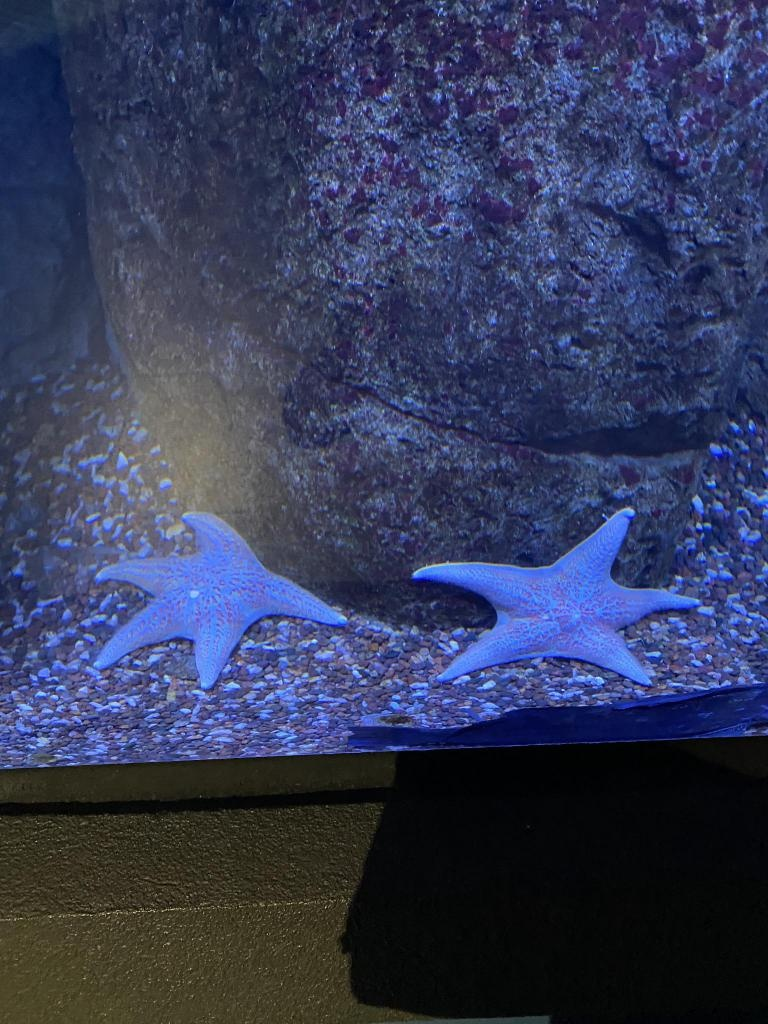starfish: (405, 506, 707, 688), (91, 502, 350, 690)
